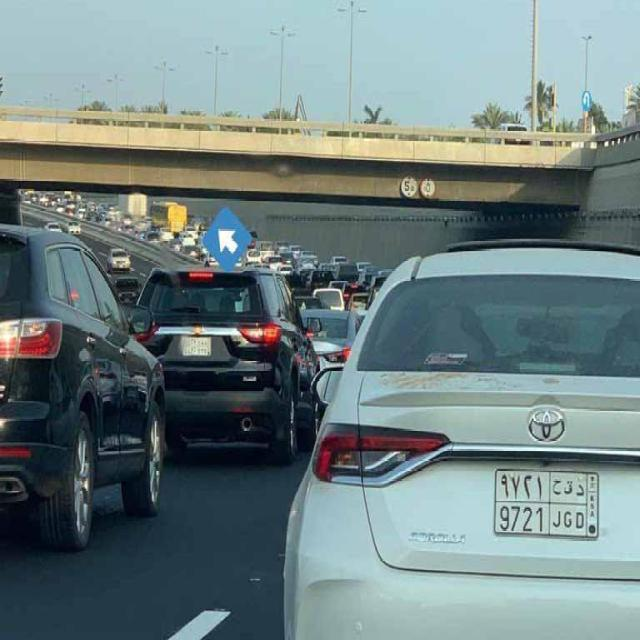license_plate: (492, 466, 600, 541)
